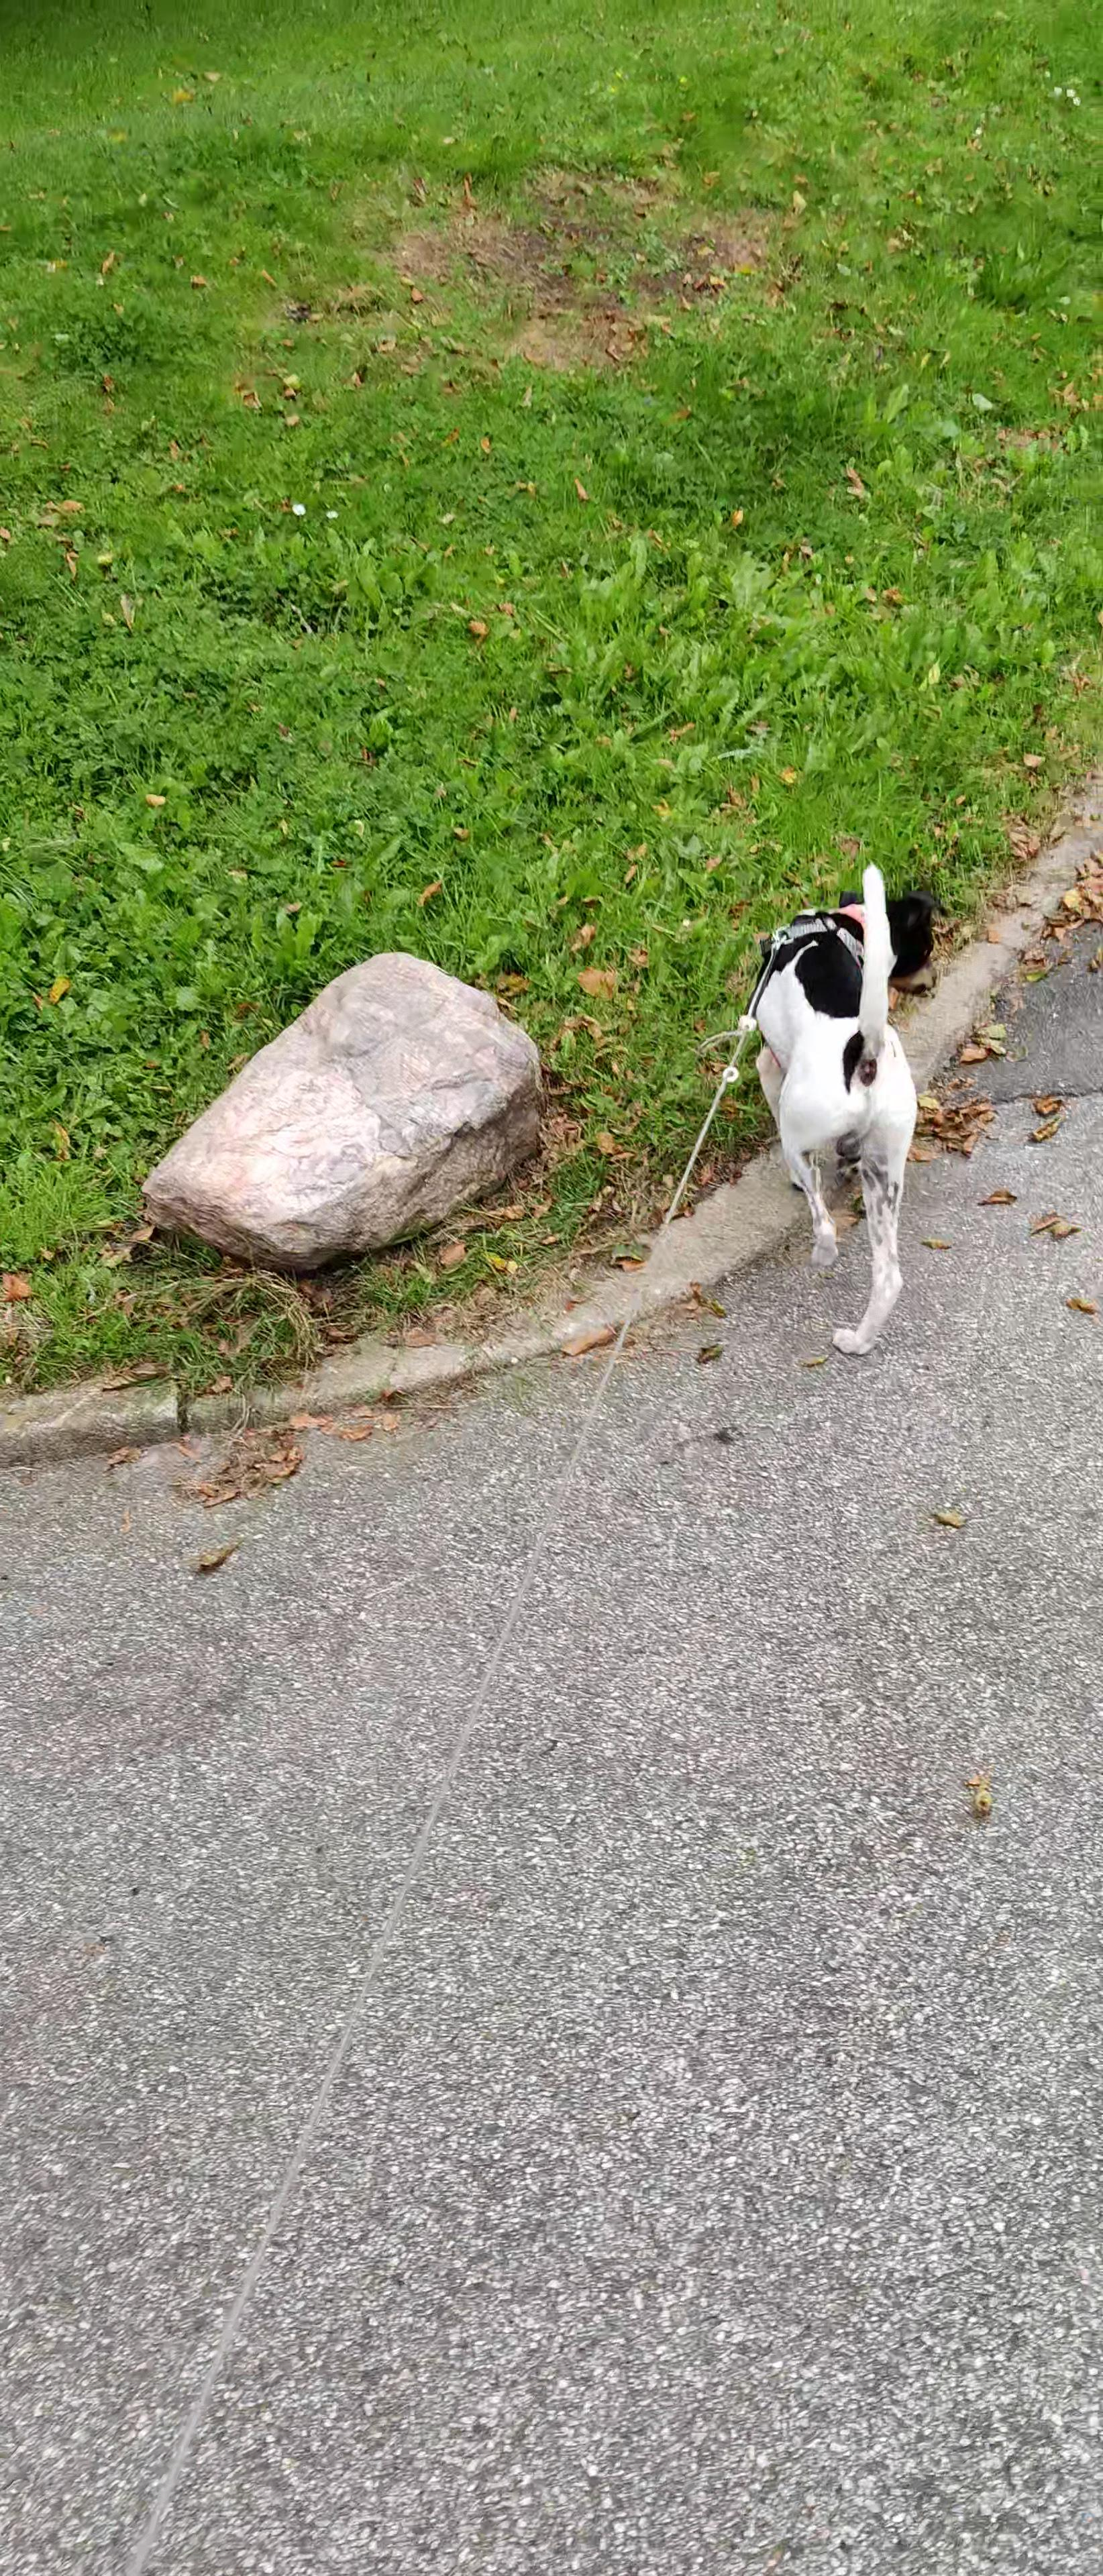Dog: (745, 864, 950, 1360)
